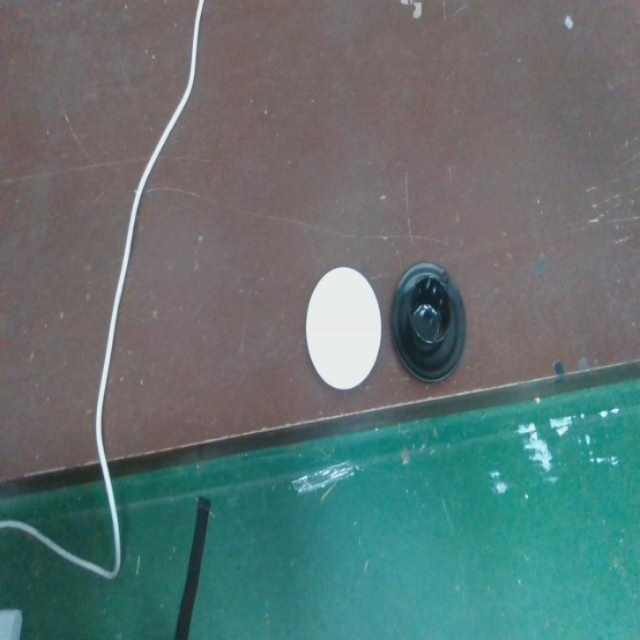black: (387, 257, 469, 389)
white: (304, 263, 384, 394)
